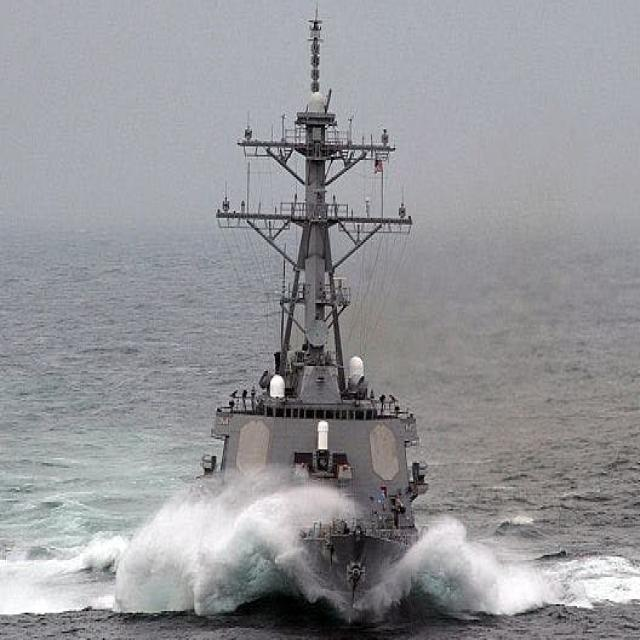navalvessels: (170, 9, 464, 588)
